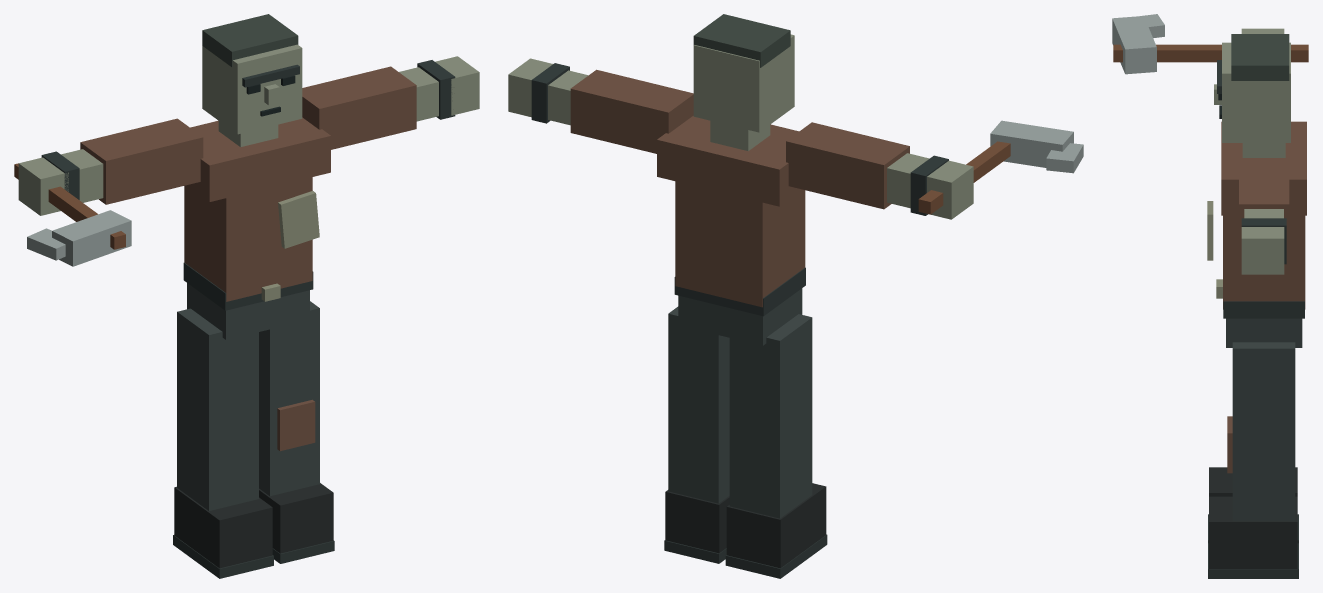
File: FSA_ENEMY_A002_ZombieB.glb
3 views of the same model, side by side, from view 1: azimuth 30°, elevation 25°; view 2: azimuth 150°, elevation 25°; view 3: azimuth 270°, elevation 25° (orthographic). The views are drawn at different scales.
Parts seen in each view (by area): view 1: TrousersR, Torso, TrousersL, Shoulders, SleeveR, SleeveL, Face, BootR, BootL, Hips, HairPatch, AxeHead (+15 smaller); view 2: TrousersR, Torso, TrousersL, Shoulders, SleeveL, Face, SleeveR, BootR, Hips, BootL, HairPatch, AxeHead (+11 smaller); view 3: TrousersL, BootL, Face, Torso, Shoulders, SleeveL, HairPatch, HandL, AxeHead, Hips, AxeShaft, Belt (+8 smaller).
Part boxes in pixels (x1,y1,x2,y2): TrousersR: (177, 308, 258, 510); Torso: (184, 177, 312, 301); TrousersL: (259, 301, 319, 496); Shoulders: (187, 117, 330, 201); SleeveR: (80, 118, 203, 204); SleeveL: (302, 66, 416, 149); Face: (202, 44, 302, 134); BootR: (174, 486, 272, 568); BootL: (259, 483, 333, 553); Hips: (187, 283, 309, 339); HairPatch: (202, 14, 298, 67); AxeHead: (52, 210, 131, 266); TrousersR: (729, 314, 812, 518); Torso: (675, 181, 805, 307); TrousersL: (668, 306, 729, 503); Shoulders: (657, 116, 802, 206); SleeveL: (570, 69, 693, 153); Face: (693, 34, 794, 132); SleeveR: (786, 122, 909, 209); BootR: (726, 483, 826, 568); Hips: (678, 288, 802, 345); BootL: (665, 490, 729, 553); HairPatch: (693, 14, 790, 67); AxeHead: (990, 120, 1073, 167); TrousersL: (1232, 342, 1295, 521); BootL: (1209, 496, 1297, 568); Face: (1222, 42, 1290, 142); Torso: (1223, 215, 1305, 309); Shoulders: (1221, 121, 1306, 215); SleeveL: (1239, 158, 1289, 247); HairPatch: (1231, 34, 1289, 80); HandL: (1241, 227, 1284, 274); AxeHead: (1112, 16, 1156, 74); Hips: (1226, 318, 1302, 347); AxeShaft: (1113, 44, 1308, 62); Belt: (1223, 301, 1304, 318).
Size of the model in its own units: 1.83 by 1.81 by 0.643.
